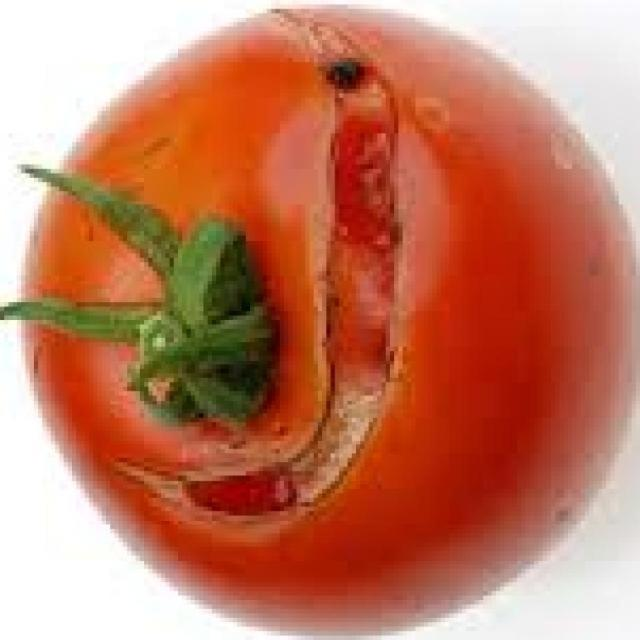Cracking Fruit: (68, 10, 285, 374)
